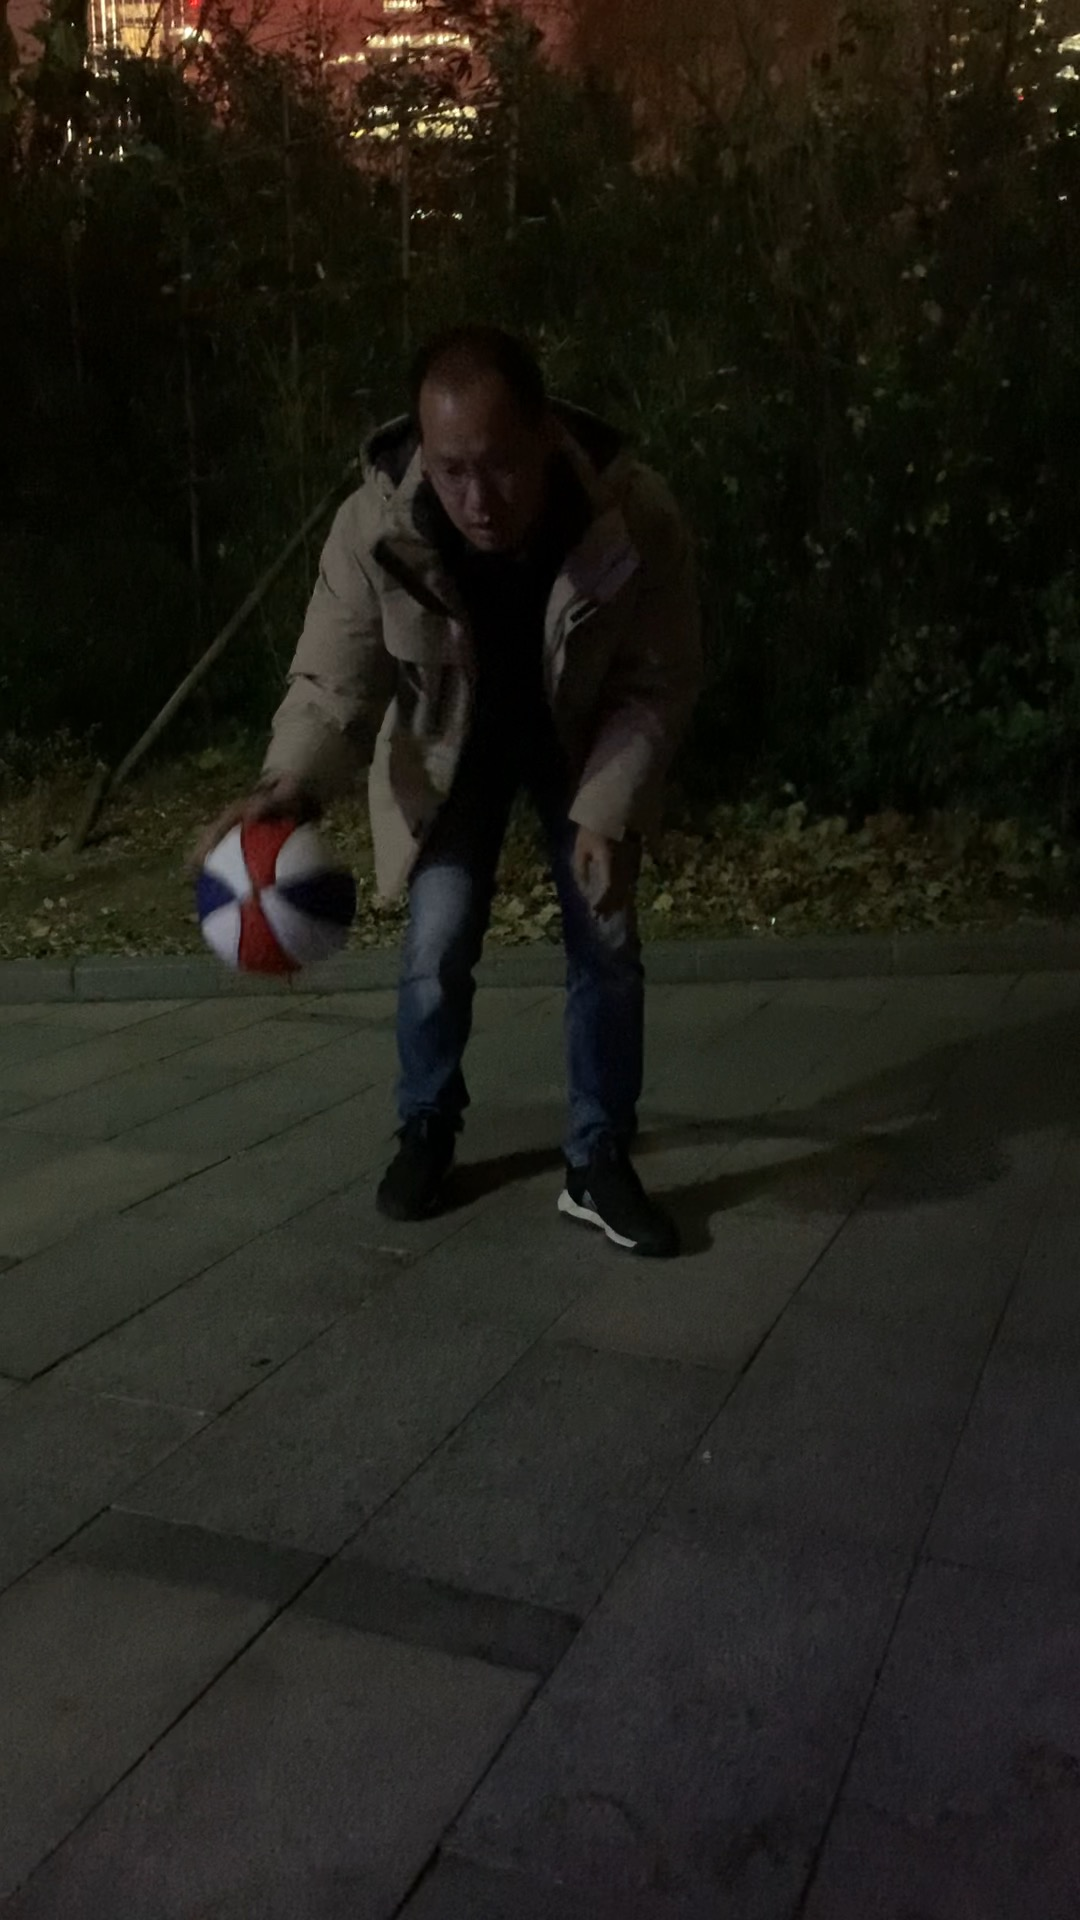ball: (193, 816, 353, 975)
